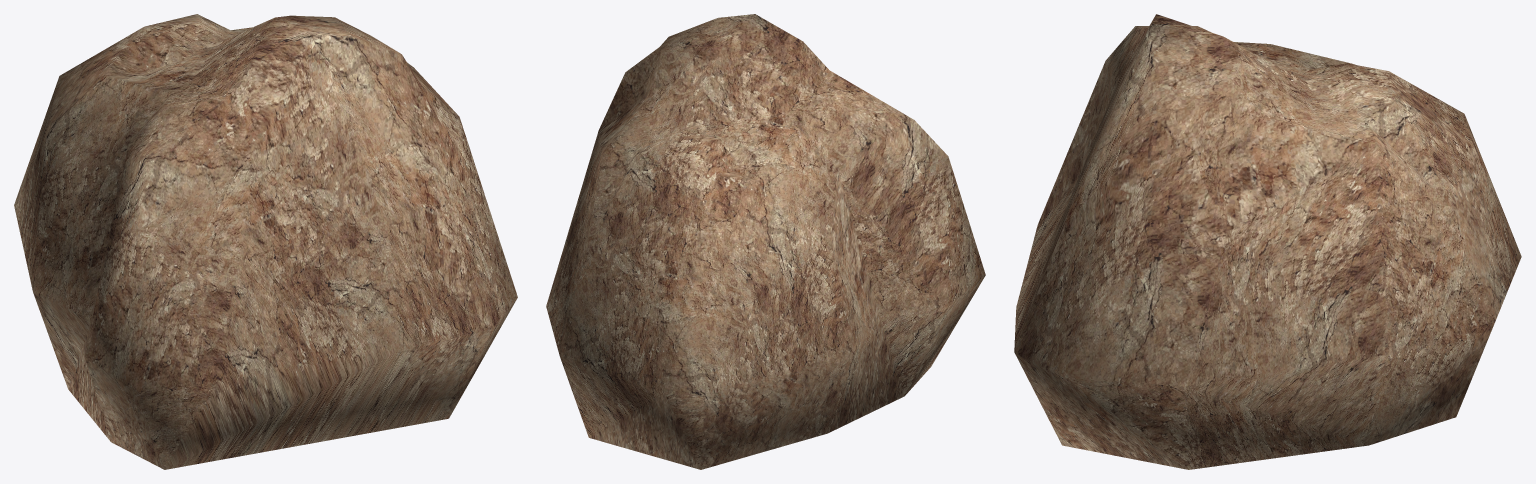
The model's file is rock_tatt_boulder_tan_l2.fbx.
3 renders of one model, left to right at view 1: azimuth 30°, elevation 25°; view 2: azimuth 150°, elevation 25°; view 3: azimuth 270°, elevation 25°, orthographic. The views are drawn at different scales.
Parts seen in each view (by area): view 1: mesh_node; view 2: mesh_node; view 3: mesh_node.
Part boxes in pixels (box(x1,y1,x2,y2)): mesh_node: box(14, 14, 517, 469); mesh_node: box(546, 14, 985, 469); mesh_node: box(1014, 14, 1521, 469).
Size of the model in its own units: 4.89 by 4.87 by 5.35.
